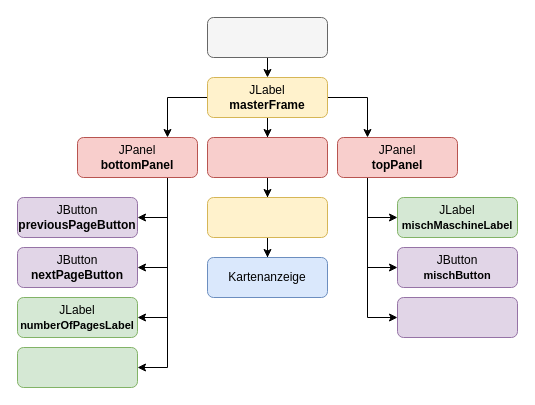
The diagram is 535 pixels wide and 405 high, and some of its shapes have lost their labels. Each missing label, with the centre of its shape:
"Grafikfenster MainWindow" goes at point 267,37.
"GridLayout" goes at point 267,217.
"JButton resetButton" goes at point 457,317.
"JLabel numberOfCardsLabel" goes at point 77,367.
"JPanel cardPanel" goes at point 267,157.
